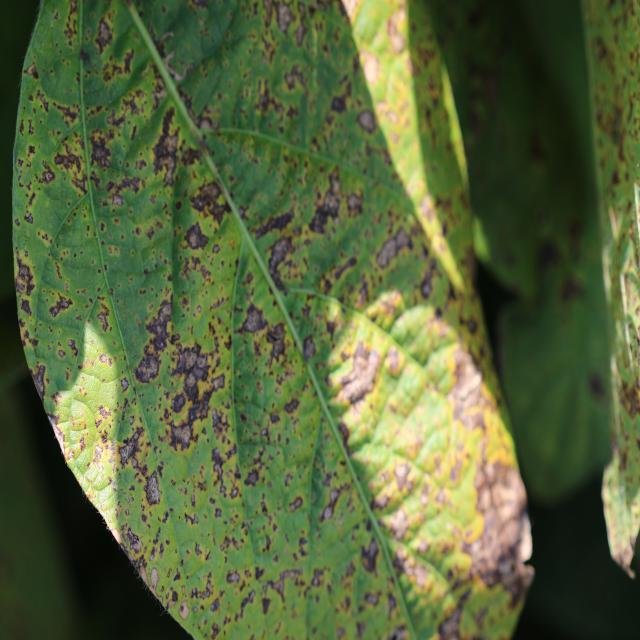Bacterial_Blight: (400, 14, 470, 188), (98, 162, 172, 268), (175, 217, 236, 309), (471, 451, 524, 545), (457, 571, 529, 640), (420, 213, 469, 293), (389, 303, 450, 363), (132, 377, 173, 462), (412, 507, 471, 565), (262, 1, 321, 58), (335, 341, 382, 403), (382, 360, 428, 421), (259, 230, 305, 290), (50, 417, 82, 486), (414, 424, 454, 478), (309, 179, 346, 236), (253, 76, 294, 127), (207, 448, 241, 509), (141, 303, 174, 358), (451, 353, 484, 408), (189, 180, 229, 224), (384, 68, 414, 126), (151, 125, 181, 182), (362, 289, 403, 330), (376, 225, 414, 269), (253, 206, 296, 244), (353, 2, 390, 46), (180, 397, 212, 443), (320, 479, 353, 523), (263, 567, 301, 604), (243, 445, 274, 487), (170, 344, 202, 384), (53, 143, 86, 179), (235, 301, 267, 335), (119, 426, 144, 467), (14, 256, 37, 299), (109, 174, 144, 201), (266, 327, 289, 368), (134, 351, 161, 385), (89, 134, 113, 170), (385, 506, 411, 539), (439, 604, 463, 639), (515, 561, 536, 601), (361, 50, 383, 88), (182, 222, 210, 251), (52, 100, 80, 127), (118, 534, 140, 567), (165, 54, 188, 85), (360, 537, 379, 573), (49, 293, 74, 320), (49, 418, 67, 455), (94, 18, 113, 53), (170, 421, 192, 451), (30, 362, 47, 400), (393, 460, 413, 492), (144, 473, 162, 506), (211, 407, 231, 436), (411, 562, 432, 589), (274, 3, 292, 34), (385, 347, 404, 376), (211, 446, 227, 477), (419, 269, 435, 299), (357, 108, 376, 133), (346, 191, 363, 217), (126, 526, 143, 552), (220, 533, 241, 553), (69, 412, 88, 434), (169, 391, 186, 414), (477, 486, 492, 512), (330, 93, 348, 114), (302, 335, 316, 362), (137, 564, 151, 589), (40, 163, 56, 184), (283, 396, 300, 415), (96, 310, 110, 333), (210, 373, 225, 393), (288, 494, 304, 512), (47, 413, 60, 434), (267, 326, 283, 343), (244, 469, 259, 486), (24, 61, 38, 78), (97, 404, 111, 421), (184, 511, 199, 526), (226, 569, 241, 584), (149, 567, 159, 589), (66, 338, 78, 356), (178, 601, 190, 619), (261, 596, 272, 615), (199, 117, 212, 131), (111, 194, 124, 207), (120, 377, 130, 393), (166, 596, 177, 610), (323, 506, 333, 521), (78, 436, 87, 452), (27, 191, 36, 207), (24, 211, 34, 225), (94, 444, 104, 458), (98, 353, 109, 364), (173, 568, 181, 582), (214, 507, 222, 518), (58, 349, 66, 358), (15, 218, 20, 227)
Soybean: (10, 0, 536, 640)
